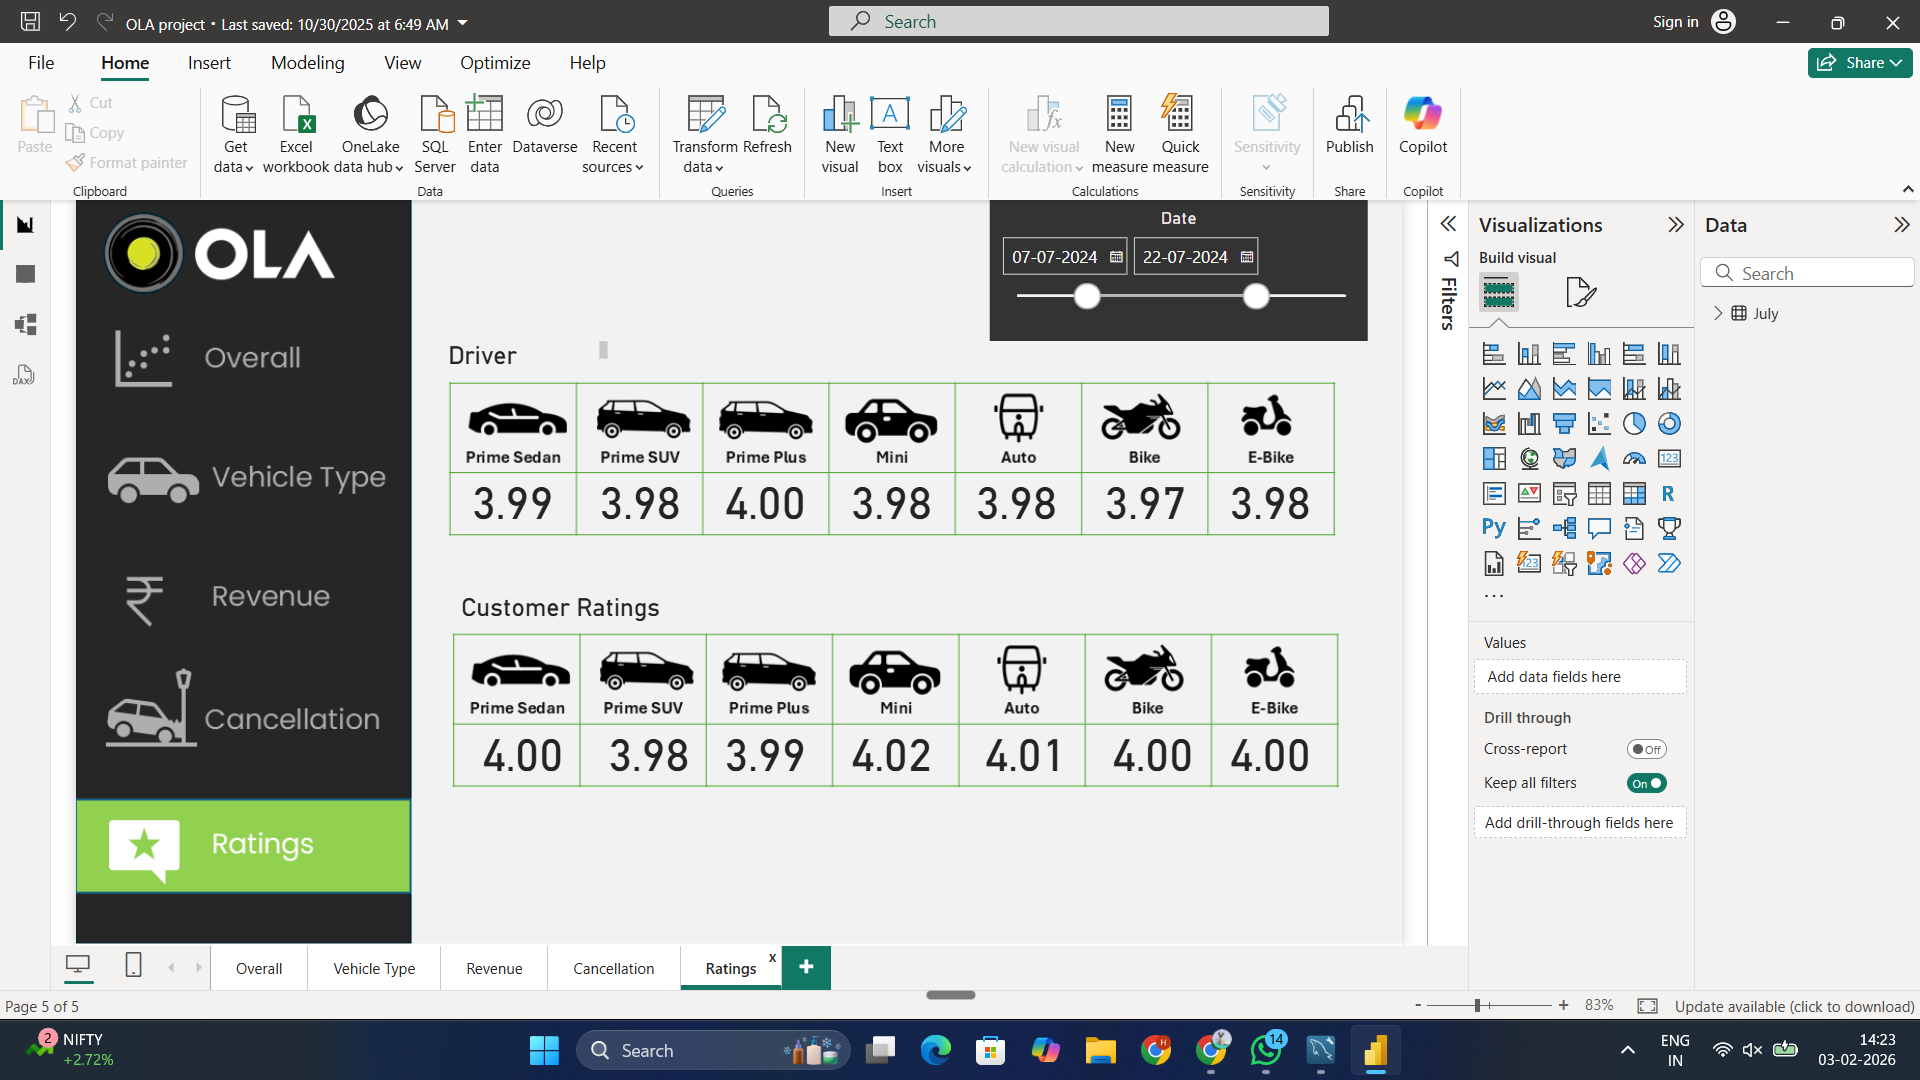

The dashboard page shown, as its layout file describes it:
{"tool":"powerbi","page":{"name":"Ratings","canvas":[1280,720],"ordinal":4},"visuals":[{"type":"actionButton","box":[0,574.3,323.6,92.1],"z":0},{"type":"actionButton","box":[0,445.7,324.3,92.9],"z":1000},{"type":"actionButton","box":[0,337.1,324.3,92.9],"z":2000},{"type":"actionButton","box":[0,217.1,324.3,92.9],"z":3000},{"type":"actionButton","box":[0,104.3,324.3,92.9],"z":4000},{"type":"card","fields":{"Values":["Avg(July.Driver_Ratings)"]},"box":[344.4,263.3,153.3,51.1],"z":5000},{"type":"card","fields":{"Values":["Avg(July.Driver_Ratings)"]},"box":[467.8,263.3,153.3,51.1],"z":6000},{"type":"card","fields":{"Values":["Avg(July.Driver_Ratings)"]},"box":[588.9,263.3,153.3,51.1],"z":7000},{"type":"card","fields":{"Values":["Avg(July.Driver_Ratings)"]},"box":[1076.7,263.3,153.3,51.1],"z":8000},{"type":"card","fields":{"Values":["Avg(July.Driver_Ratings)"]},"box":[955.6,263.3,153.3,51.1],"z":9000},{"type":"card","fields":{"Values":["Avg(July.Driver_Ratings)"]},"box":[831.1,263.3,153.3,51.1],"z":10000},{"type":"card","fields":{"Values":["Avg(July.Driver_Ratings)"]},"box":[711.1,263.3,153.3,51.1],"z":11000},{"type":"card","fields":{"Values":["Avg(July.Customer_Rating)"]},"box":[354.4,505.6,153.3,51.1],"z":12000},{"type":"card","fields":{"Values":["Avg(July.Customer_Rating)"]},"box":[1076.7,505.6,153.3,51.1],"z":13000},{"type":"card","fields":{"Values":["Avg(July.Customer_Rating)"]},"box":[963.3,505.6,153.3,51.1],"z":14000},{"type":"card","fields":{"Values":["Avg(July.Customer_Rating)"]},"box":[840,505.6,153.3,51.1],"z":15000},{"type":"card","fields":{"Values":["Avg(July.Customer_Rating)"]},"box":[711.1,505.6,153.3,51.1],"z":16000},{"type":"card","fields":{"Values":["Avg(July.Customer_Rating)"]},"box":[588.9,505.6,153.3,51.1],"z":17000},{"type":"card","fields":{"Values":["Avg(July.Customer_Rating)"]},"box":[476.7,505.6,153.3,51.1],"z":18000},{"type":"textbox","box":[354.4,131.1,163.3,40],"z":19000},{"type":"textbox","box":[366.7,374.4,222.2,40],"z":20000},{"type":"slicer","title":"Date","fields":{"Values":["July.Date"]},"box":[882.5,0,365,136.2],"z":21000}]}

Visuals, with their boxes on the page's 1280x720 design canvas (x1, y1, x2, y2). These are canvas units, not pixel positions in the 1920x1080 screenshot, which may show the page scaled, cropped or inside an application window:
actionButton: crop(0, 574, 324, 666)
actionButton: crop(0, 446, 324, 539)
actionButton: crop(0, 337, 324, 430)
actionButton: crop(0, 217, 324, 310)
actionButton: crop(0, 104, 324, 197)
card - Avg(July.Driver_Ratings): crop(344, 263, 498, 314)
card - Avg(July.Driver_Ratings): crop(468, 263, 621, 314)
card - Avg(July.Driver_Ratings): crop(589, 263, 742, 314)
card - Avg(July.Driver_Ratings): crop(1077, 263, 1230, 314)
card - Avg(July.Driver_Ratings): crop(956, 263, 1109, 314)
card - Avg(July.Driver_Ratings): crop(831, 263, 984, 314)
card - Avg(July.Driver_Ratings): crop(711, 263, 864, 314)
card - Avg(July.Customer_Rating): crop(354, 506, 508, 557)
card - Avg(July.Customer_Rating): crop(1077, 506, 1230, 557)
card - Avg(July.Customer_Rating): crop(963, 506, 1117, 557)
card - Avg(July.Customer_Rating): crop(840, 506, 993, 557)
card - Avg(July.Customer_Rating): crop(711, 506, 864, 557)
card - Avg(July.Customer_Rating): crop(589, 506, 742, 557)
card - Avg(July.Customer_Rating): crop(477, 506, 630, 557)
textbox: crop(354, 131, 518, 171)
textbox: crop(367, 374, 589, 414)
"Date" slicer: crop(882, 0, 1248, 136)
